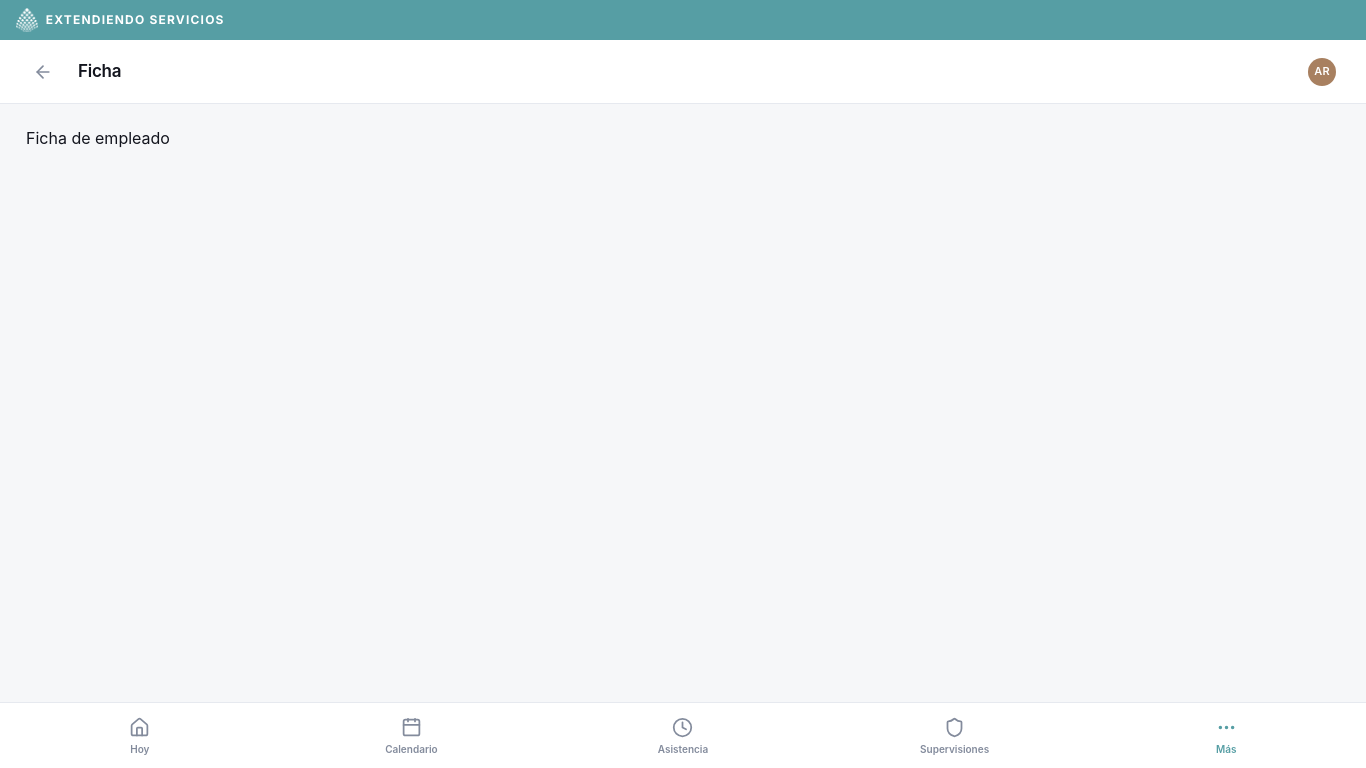
Test: AdminShell — flecha atrás (P17.8) › sin historial (entrada directa), un detalle vuelve a su listado
Click the button named "Volver".
click(43, 72)  # box [26,54,60,88]
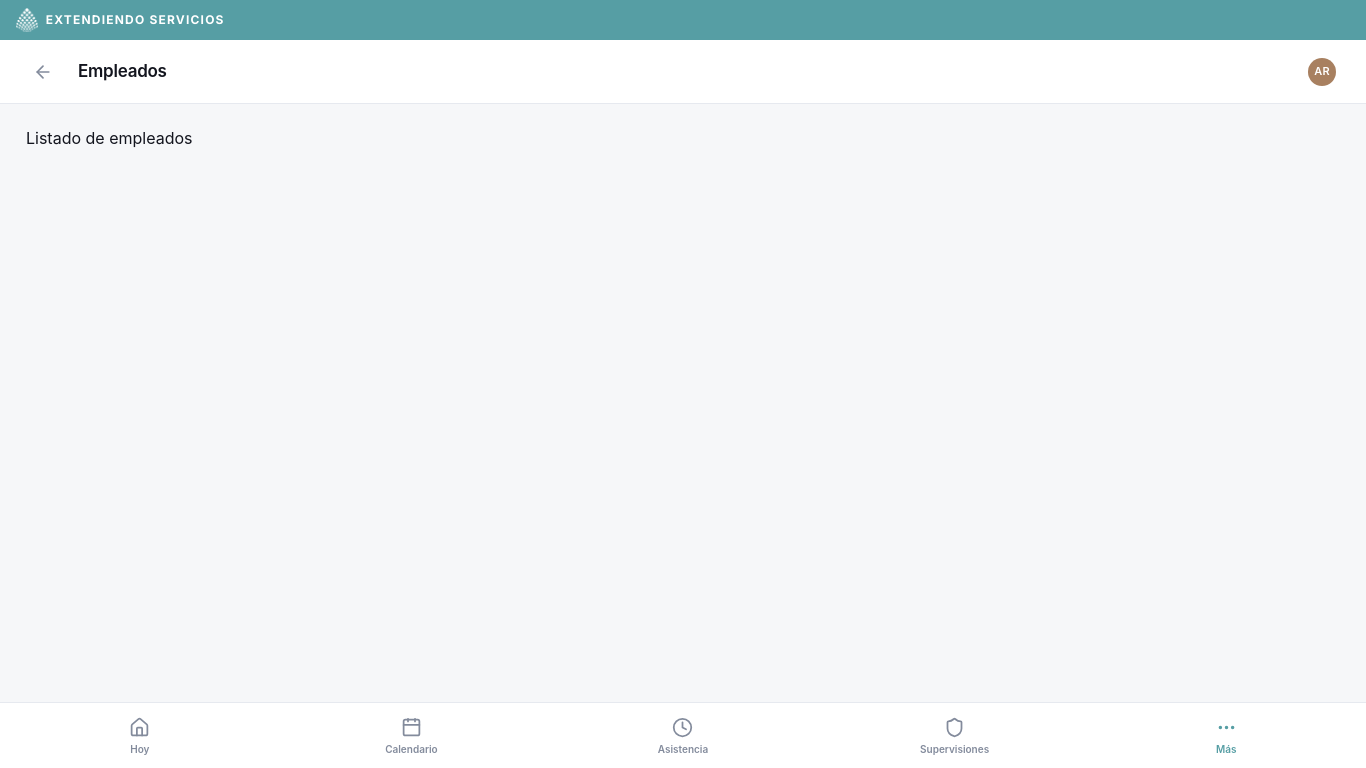
Expected: the text "Listado de empleados" is shown, [26,128,192,148]
